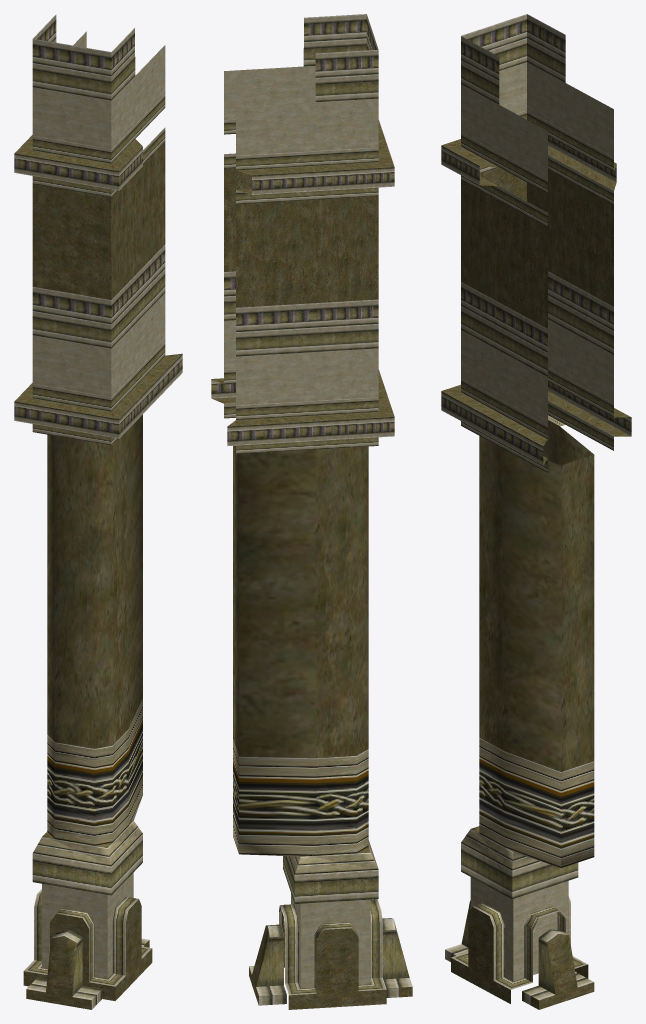
Rendered from CH09_SMAUG_PLAYSURFACE_LAIR504.fbx.
The picture shows the model from 3 angles, left to right: view 1: azimuth 30°, elevation 25°; view 2: azimuth 150°, elevation 25°; view 3: azimuth 270°, elevation 25°; orthographic projection.
Visible parts, largest first — view 1: CH09_SMAUG_PLAYSURFACE_LAIR504; view 2: CH09_SMAUG_PLAYSURFACE_LAIR504; view 3: CH09_SMAUG_PLAYSURFACE_LAIR504.
Boxes of the visible parts, <box> form: CH09_SMAUG_PLAYSURFACE_LAIR504: <box>14,14,182,1009</box>; CH09_SMAUG_PLAYSURFACE_LAIR504: <box>211,14,412,1009</box>; CH09_SMAUG_PLAYSURFACE_LAIR504: <box>441,14,631,1009</box>.
Size of the model in its own units: 53568 by 271667 by 50068.
Materials: 7 (7 with a texture image).
